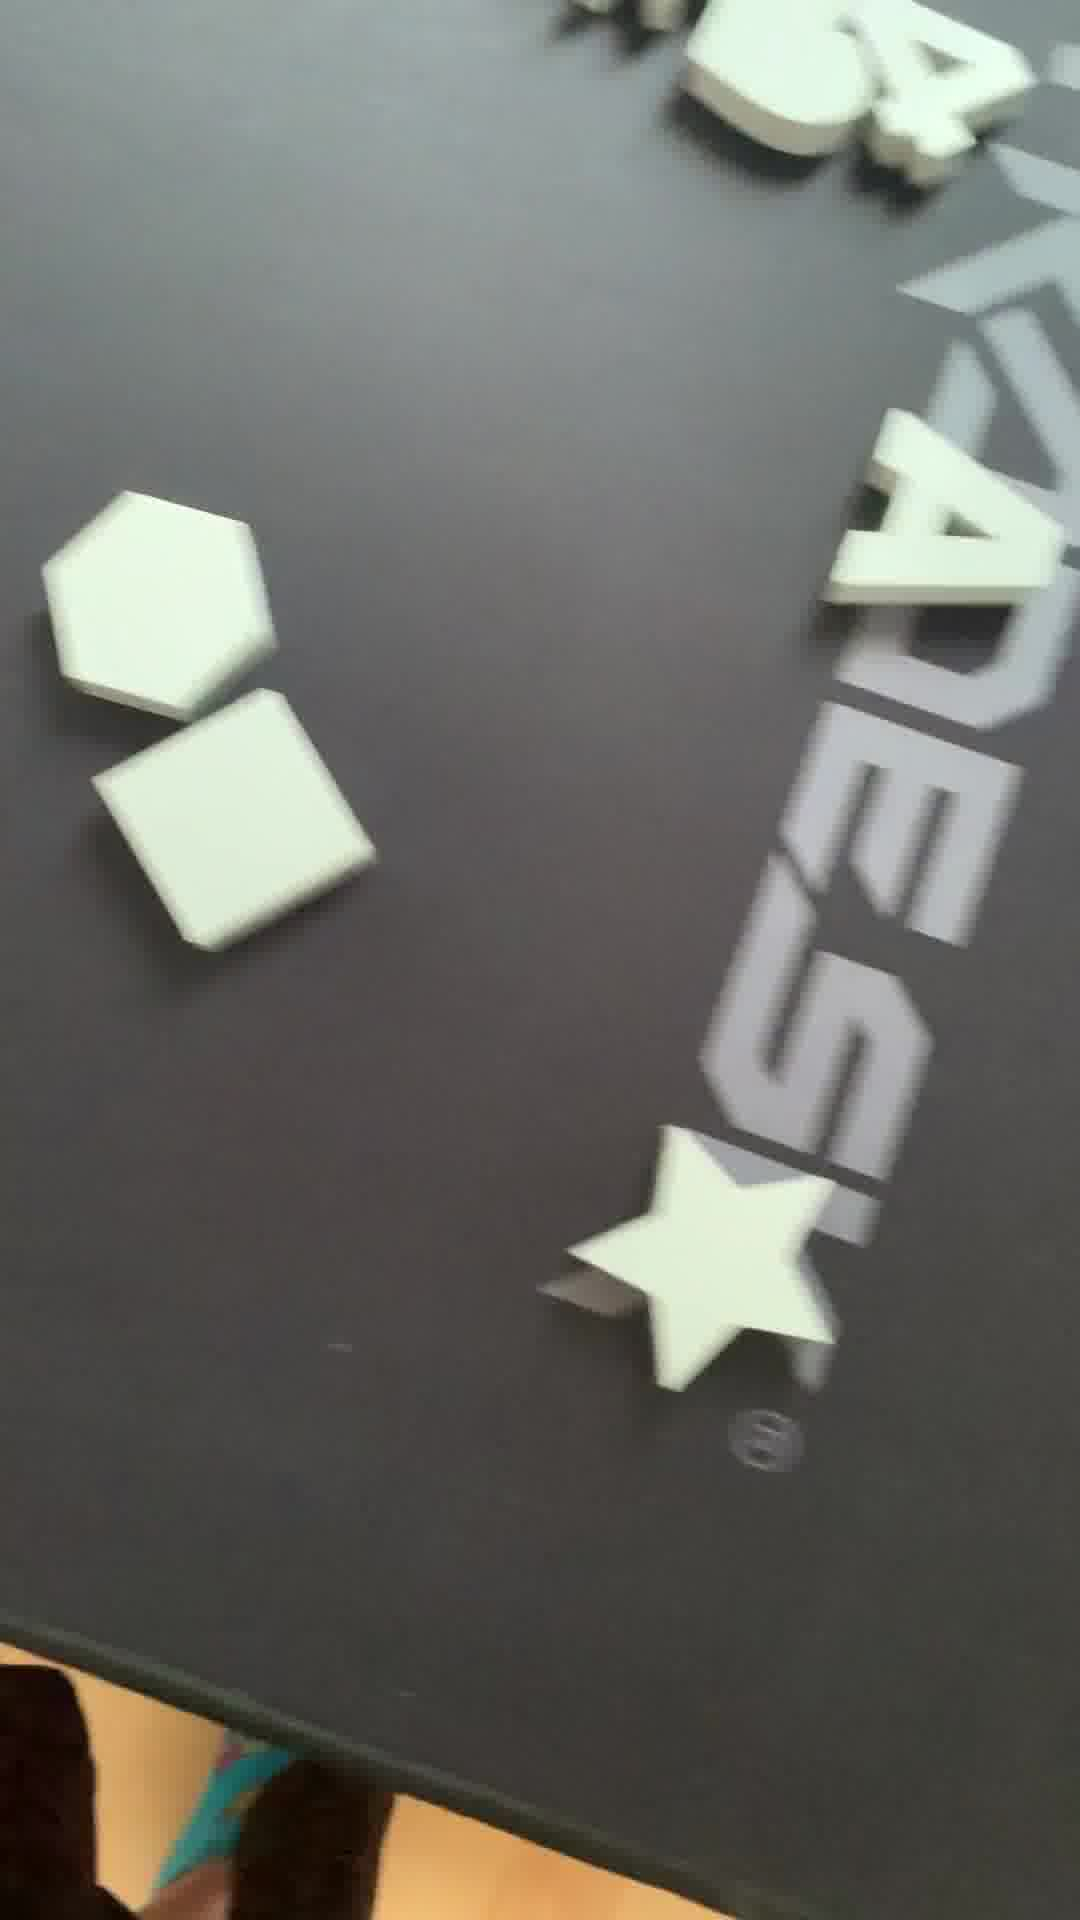Gray A-letter: (806, 411, 1080, 630)
Gray four: (876, 1, 1040, 177)
Gray heart: (674, 1, 860, 152)
Gray hexagon: (30, 489, 281, 723)
Gray square: (96, 695, 375, 963)
Gray star: (560, 1126, 851, 1412)
